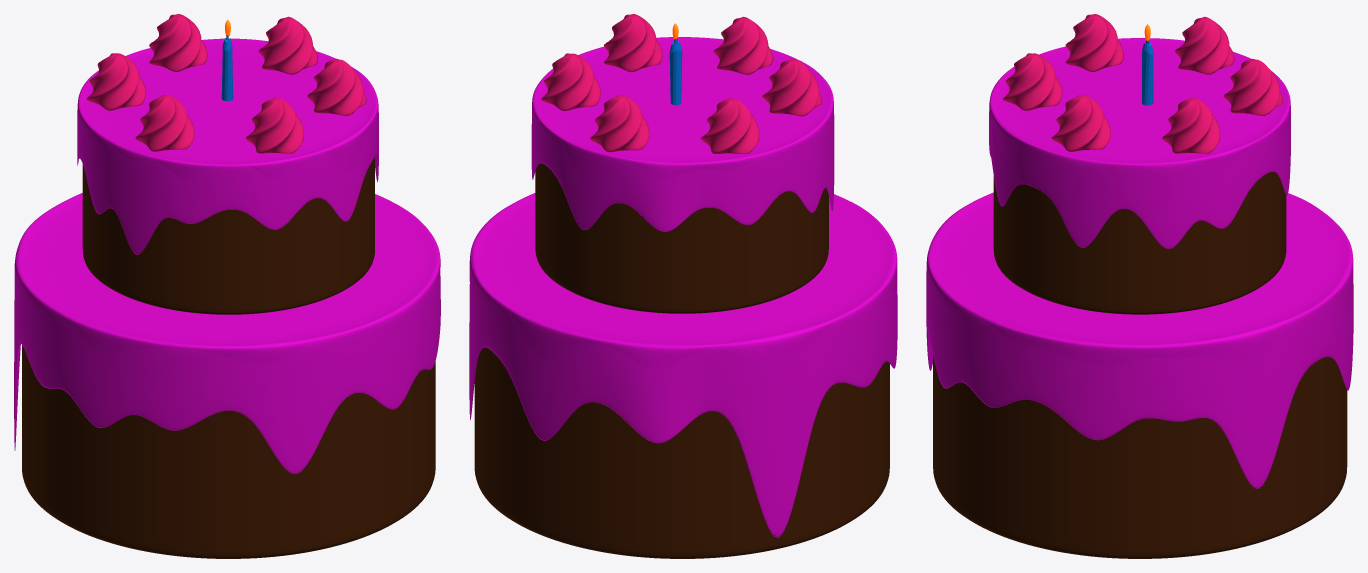
Rendered from cake.glb.
3 views of the same model, side by side, from view 1: azimuth 30°, elevation 25°; view 2: azimuth 150°, elevation 25°; view 3: azimuth 270°, elevation 25° (orthographic).
Visible parts, largest first — view 1: icing, Cylinder, icing.001, Cylinder.001, Star.003, Cylinder.003; view 2: icing, Cylinder, icing.001, Cylinder.001, Star.003, Cylinder.003; view 3: icing, Cylinder, icing.001, Cylinder.001, Star.003, Cylinder.003.
Part boxes in pixels (box(x1,y1,x2,y2)): icing: box(14, 193, 440, 473); Cylinder: box(22, 345, 435, 558); icing.001: box(77, 38, 378, 254); Cylinder.001: box(82, 157, 374, 314); Star.003: box(86, 14, 366, 153); Cylinder.003: box(221, 35, 233, 101); icing: box(469, 193, 897, 537); Cylinder: box(474, 347, 889, 558); icing.001: box(531, 37, 834, 231); Cylinder.001: box(535, 163, 828, 313); Star.003: box(541, 14, 822, 153); Cylinder.003: box(669, 38, 682, 105); icing: box(926, 192, 1353, 488); Cylinder: box(933, 354, 1347, 558); icing.001: box(989, 38, 1290, 248); Cylinder.001: box(993, 172, 1286, 314); Star.003: box(1003, 14, 1282, 153); Cylinder.003: box(1142, 40, 1153, 105).
Bounding box in the file's own units: 2.05 × 2.39 × 2.05.
